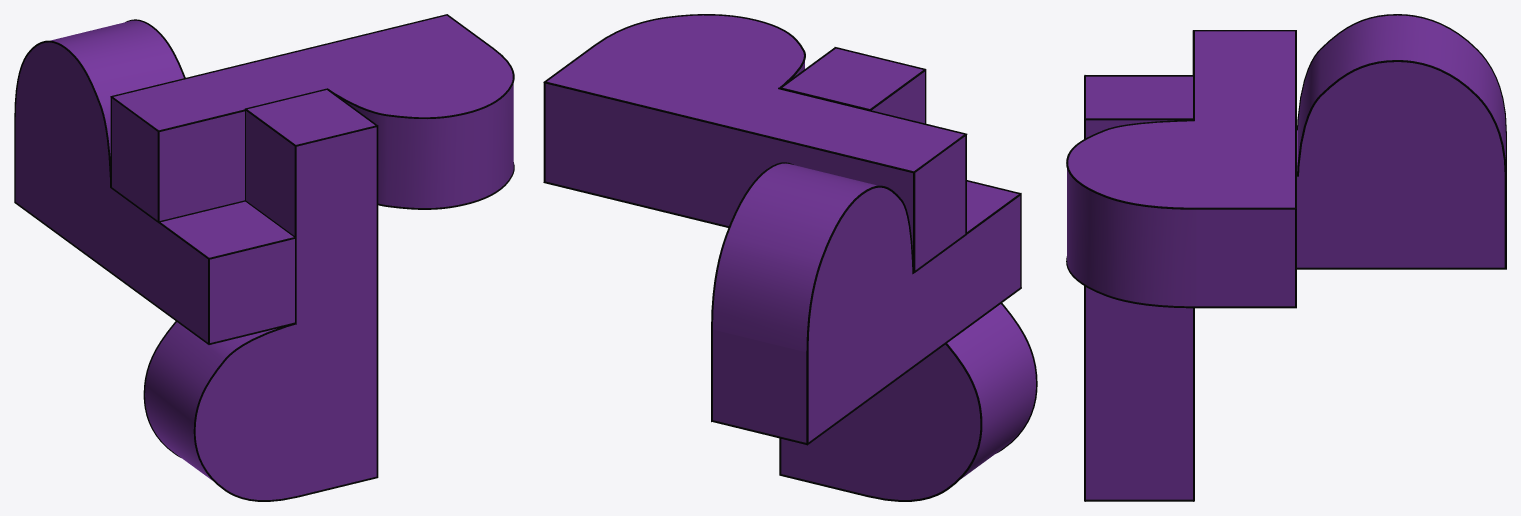
File: P_Scale_08.glb
3 views of the same model, side by side, from view 1: azimuth 30°, elevation 25°; view 2: azimuth 150°, elevation 25°; view 3: azimuth 270°, elevation 25° (orthographic). The views are drawn at different scales.
Parts seen in each view (by area): view 1: P, P.3, P.1, Sweep.1, Sweep.2, Sweep; view 2: P.1, P.3, P, Sweep.2, Sweep, Sweep.1; view 3: P.3, P.1, P, Sweep.2, Sweep, Sweep.1.
Boxes of the visible parts, x1,y1,x2,y2 form: P: (145,90,376,499); P.3: (112,15,513,220); P.1: (15,20,294,342); Sweep.1: (143,88,378,501); Sweep.2: (110,14,514,222); Sweep: (14,19,296,344); P.1: (713,163,1020,442); P.3: (545,15,965,269); P: (781,48,1035,499); Sweep.2: (543,14,967,272); Sweep: (711,162,1021,445); Sweep.1: (779,47,1037,501); P.3: (1067,31,1294,306); P.1: (1297,15,1505,267); P: (1086,76,1192,499); Sweep.2: (1066,30,1296,308); Sweep: (1297,14,1506,269); Sweep.1: (1084,75,1194,501).
Size of the model in its own units: 170 by 170 by 170.
